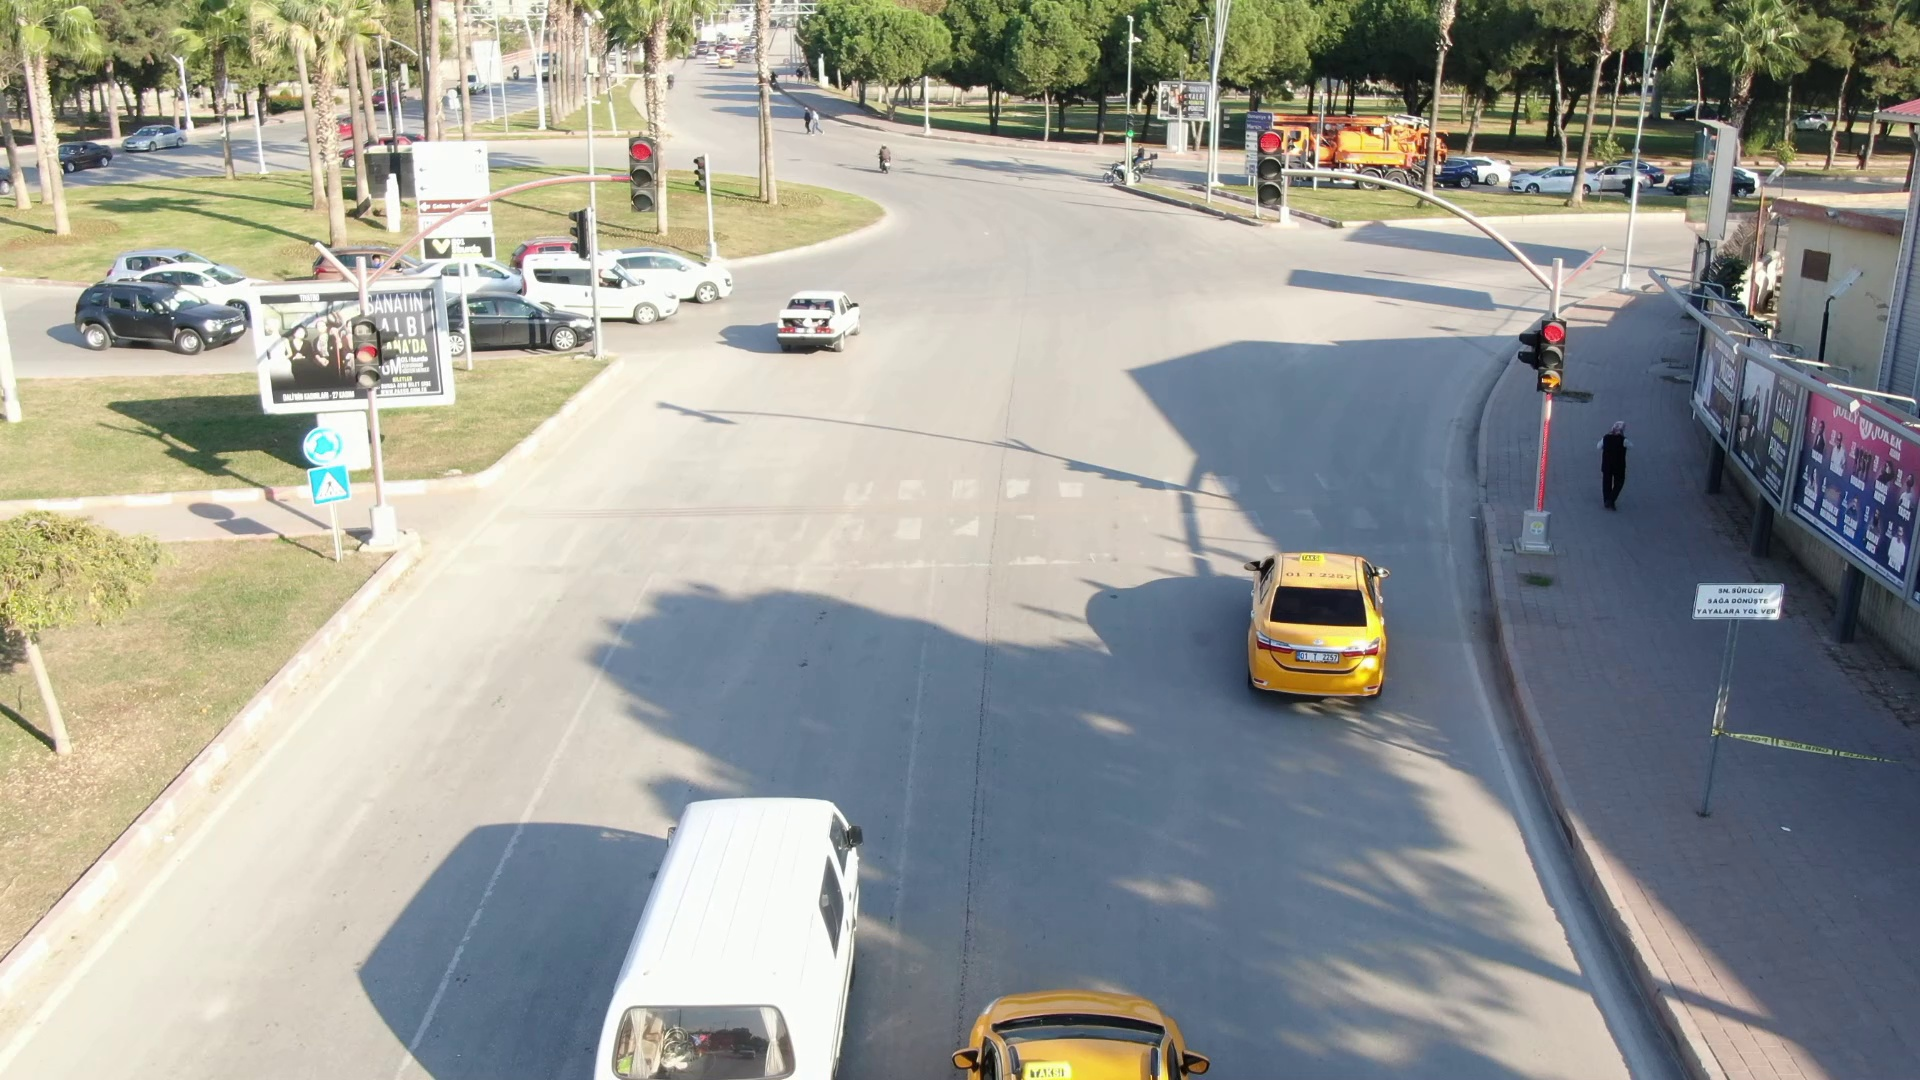car: (587, 796, 894, 1080), (1229, 521, 1392, 706), (70, 265, 247, 363), (515, 239, 682, 333), (759, 261, 866, 370), (441, 286, 598, 355), (608, 241, 741, 298)
person: (1586, 406, 1643, 512), (874, 139, 900, 180)
